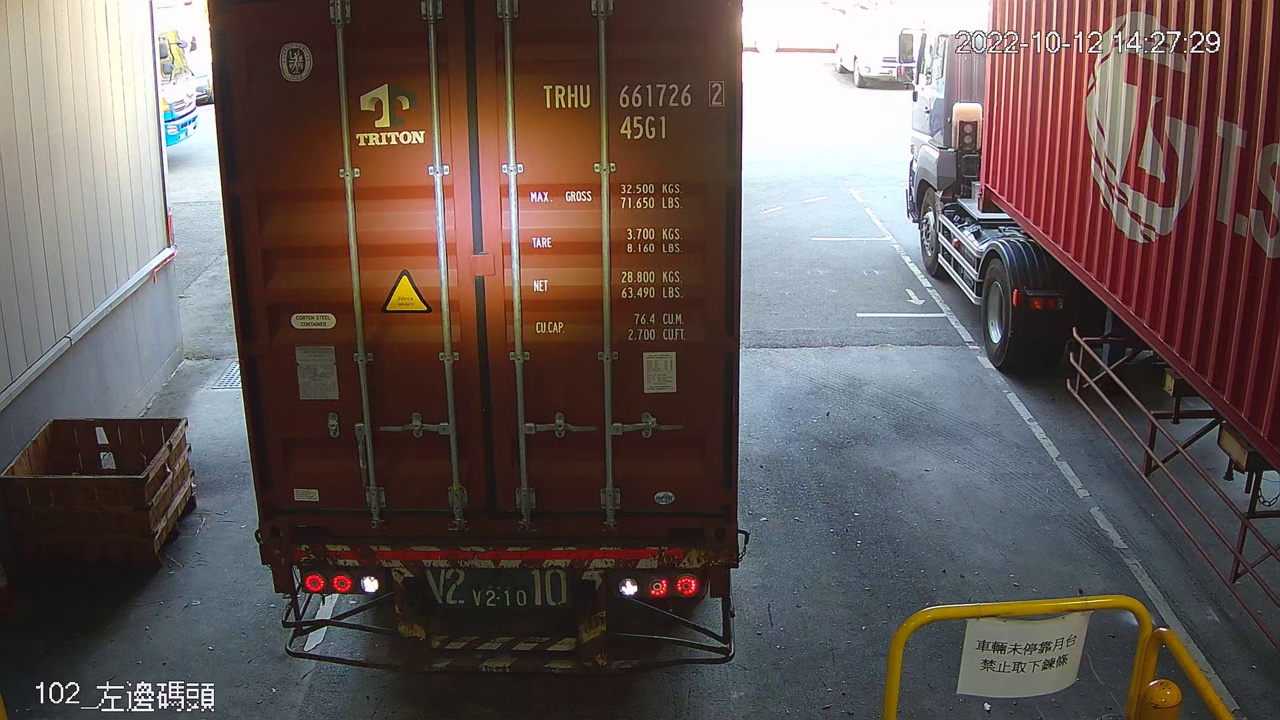container: (533, 73, 732, 146)
